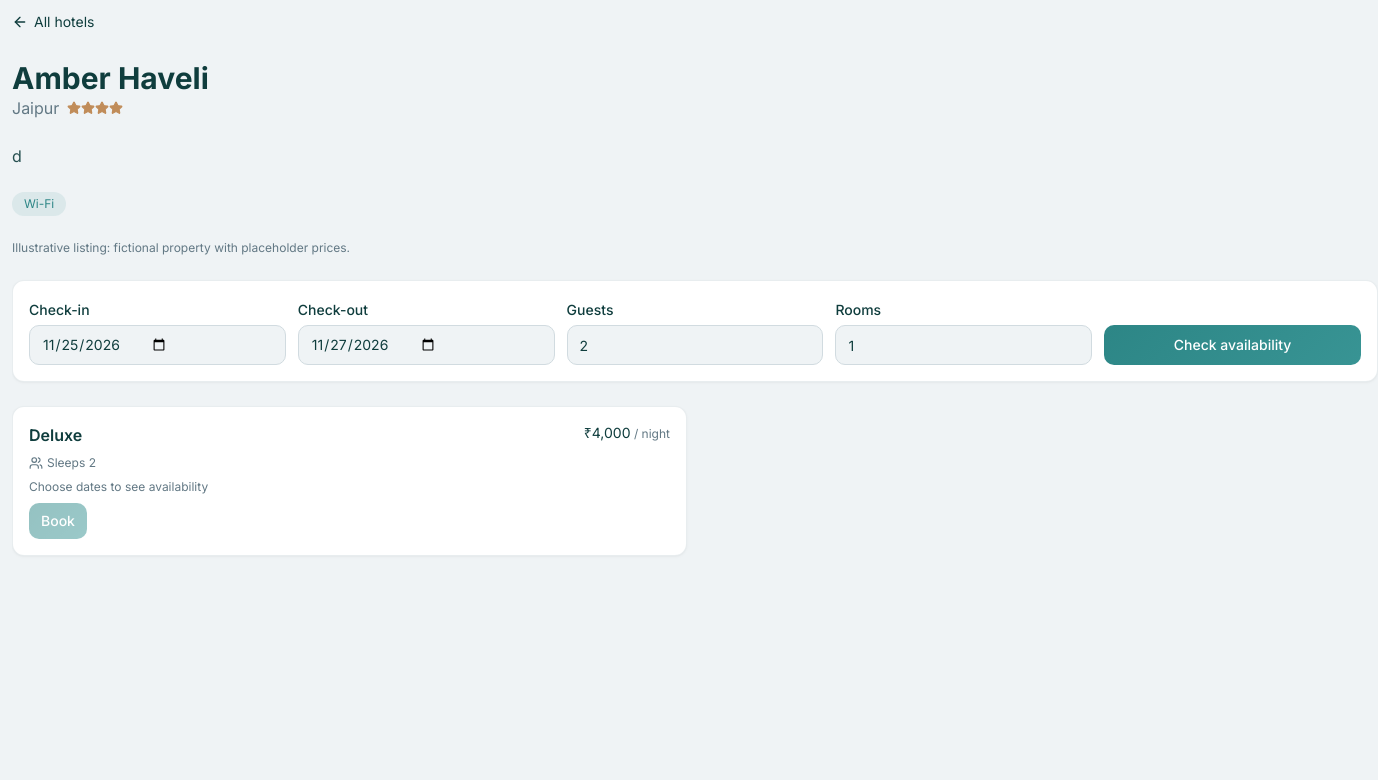
Test: Hotel detail › checks availability with the entered dates and flags seed data as illustrative
Expected: the text "fictional property with placeholder prices" is shown, [12,240,350,255]
Type "2030-02-01" into the date field labelled "Check-in".
click(157, 345); type("2030-02-01")  # box [29,325,286,365]
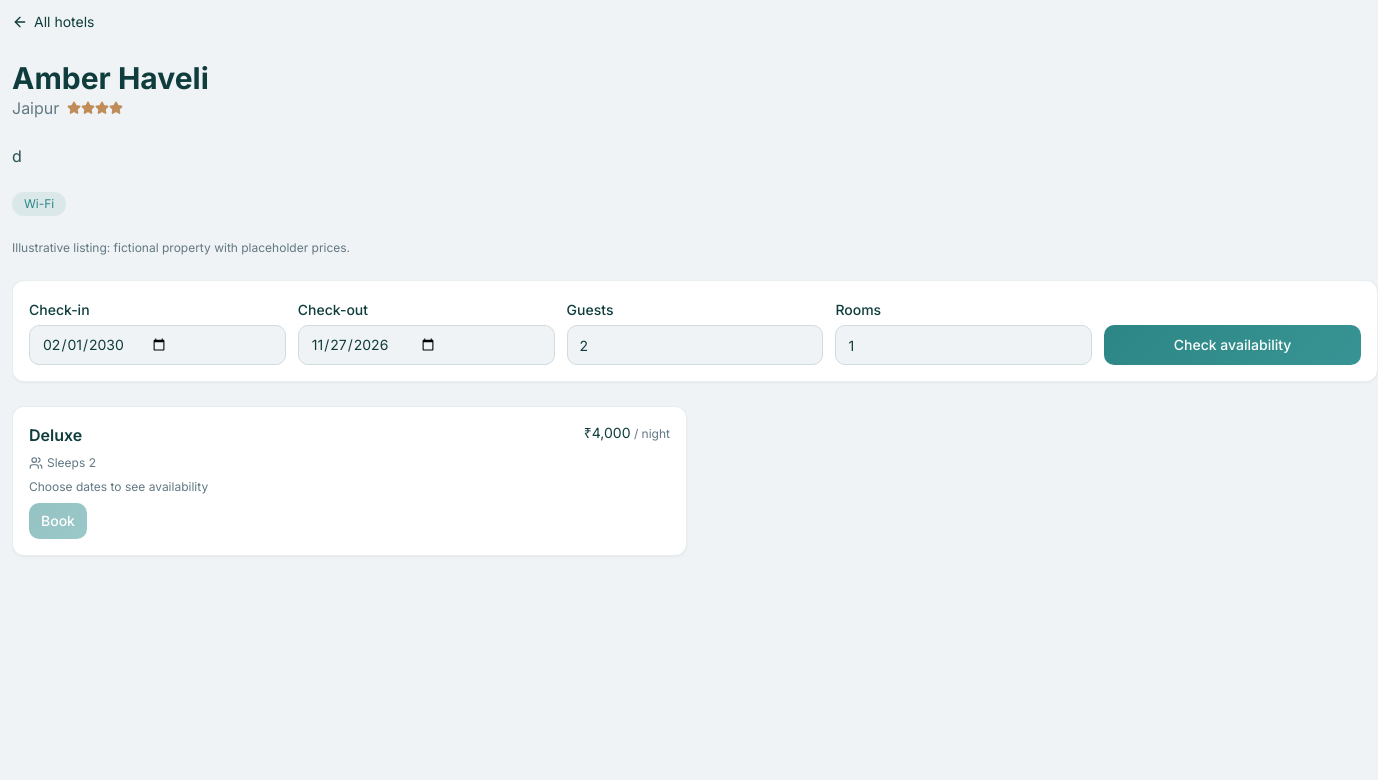
Type "2030-02-03" into the date field labelled "Check-out".
click(426, 345); type("2030-02-03")  # box [298,325,555,365]
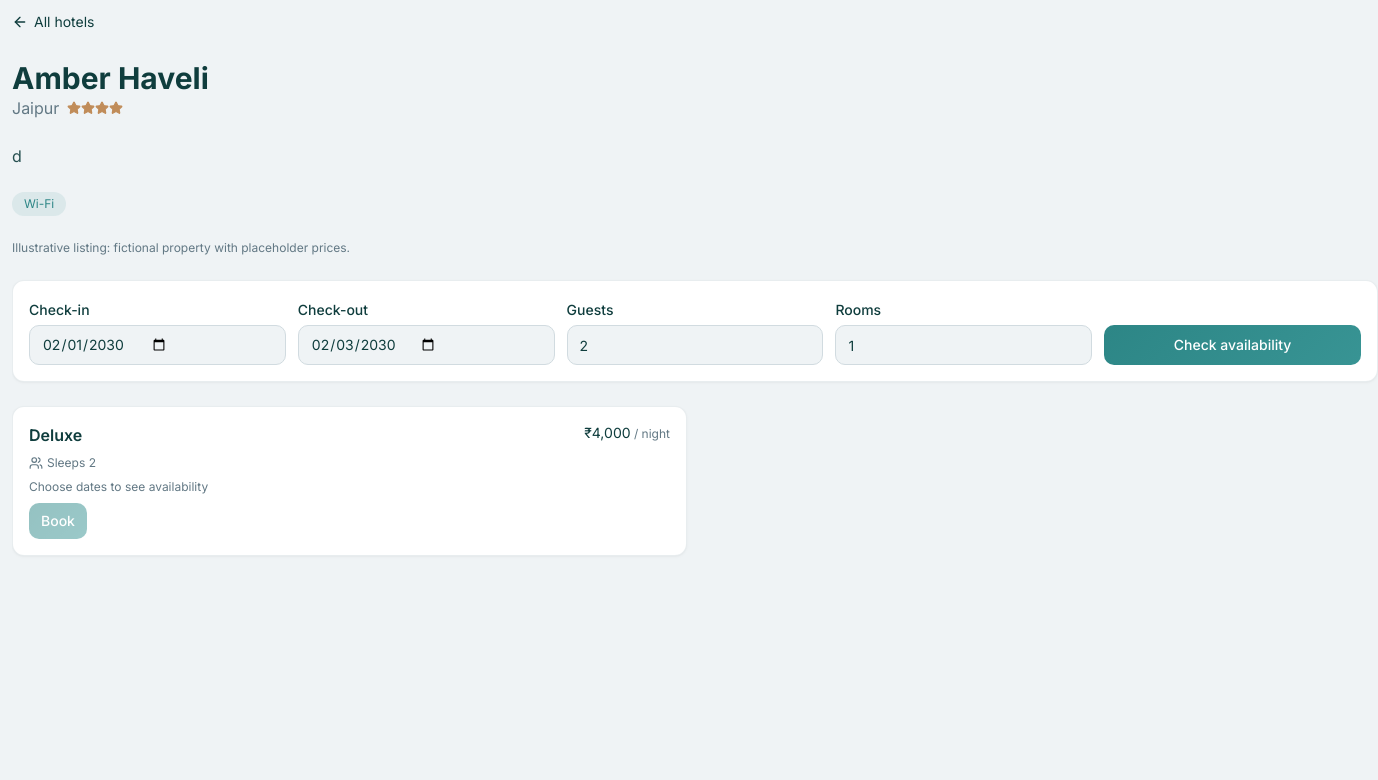
Click the button "Check availability".
click(1233, 345)  # box [1104,325,1361,365]
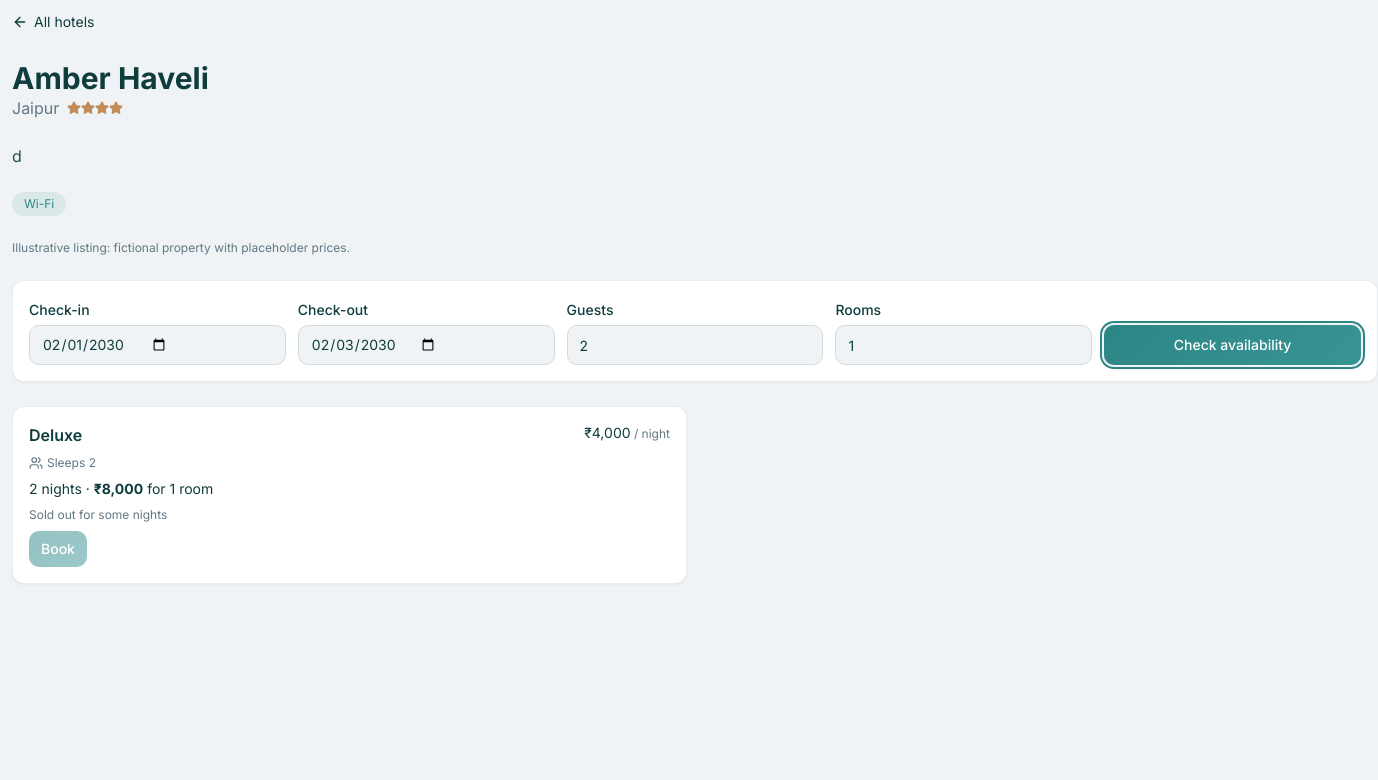
Expected: the button "Book" is disabled, [29,531,87,567]
Expected: the text "Sold out for some nights" is shown, [29,507,167,522]
